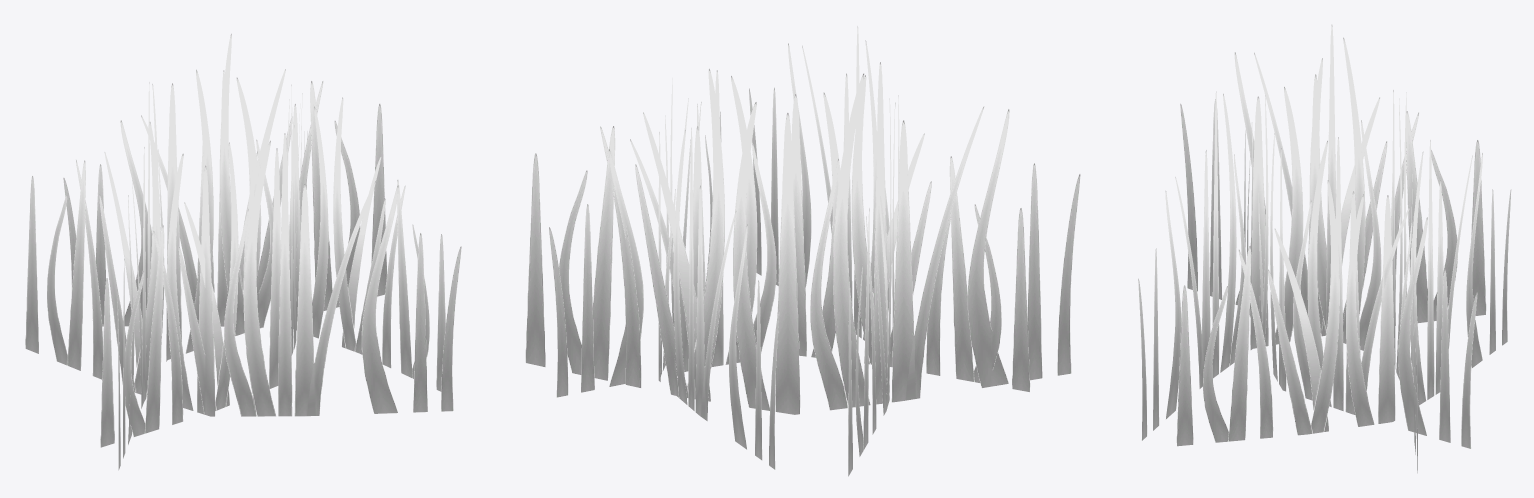
The model's file is SM_Grass_Tall_03.obj.
3 views of the same model, side by side, from view 1: azimuth 30°, elevation 25°; view 2: azimuth 150°, elevation 25°; view 3: azimuth 270°, elevation 25° (orthographic). The views are drawn at different scales.
Parts seen in each view (by area): view 1: SM_Grass_Tall_03_MI_GrassSmall2; view 2: SM_Grass_Tall_03_MI_GrassSmall2; view 3: SM_Grass_Tall_03_MI_GrassSmall2.
Part boxes in pixels (x1=…): SM_Grass_Tall_03_MI_GrassSmall2: x1=25, y1=33, x2=461, y2=470; SM_Grass_Tall_03_MI_GrassSmall2: x1=525, y1=26, x2=1080, y2=476; SM_Grass_Tall_03_MI_GrassSmall2: x1=1138, y1=24, x2=1511, y2=473.
Bounding box in the file's own units: 1.58 × 1.15 × 1.28.
1 material, 1 textured.
